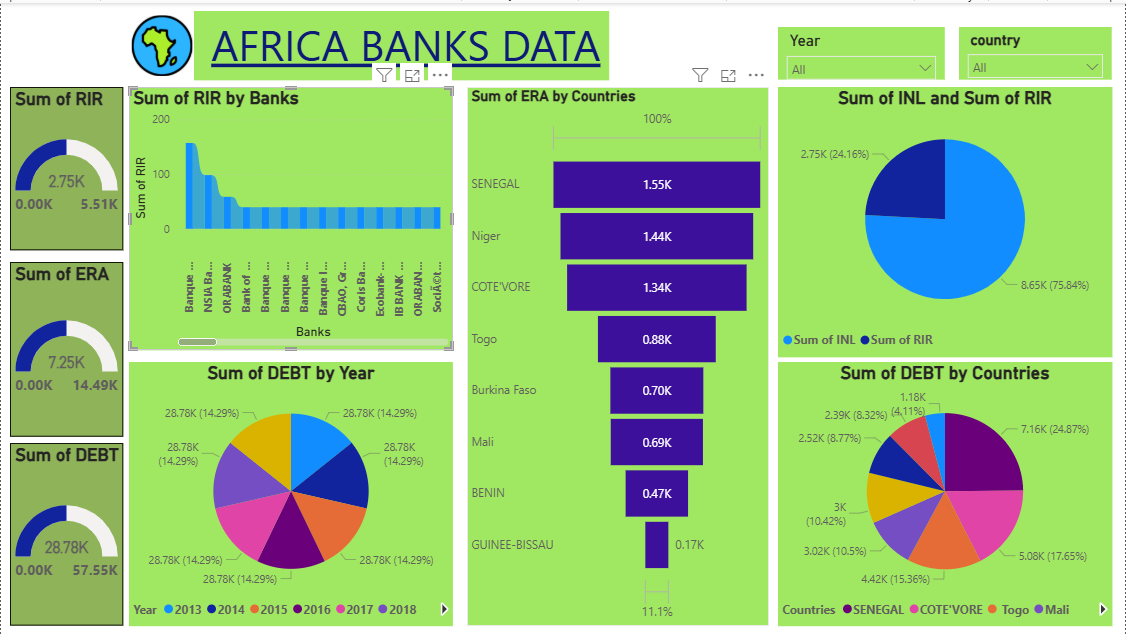

The dashboard page shown, as its layout file describes it:
{"tool":"powerbi","page":{"name":"Page 2","canvas":[1280,720],"ordinal":0},"visuals":[{"type":"textbox","box":[219.9,9.1,472.8,78.6],"z":0},{"type":"image","box":[139,9.1,88.9,78.6],"z":1000},{"type":"ribbonChart","fields":{"Category":["BANKTABLE.Banks"],"Y":["Sum(BANKTABLE.RIR)"]},"box":[145.8,95.7,369.1,299.6],"z":2000},{"type":"pieChart","fields":{"Category":["BANKTABLE.Year"],"Y":["Sum(BANKS.DEBT)"]},"box":[145.8,409,369.1,300.8],"z":3000},{"type":"pieChart","fields":{"Y":["Sum(BANKS.DEBT)"],"Category":["BANKS.Countries"]},"box":[885.2,409,380.5,300.8],"z":5000},{"type":"gauge","fields":{"Y":["Sum(BANKS.DEBT)"]},"box":[10.3,501.3,128.7,208.5],"z":6000},{"type":"gauge","fields":{"Y":["Sum(BANKS.ERA)"]},"box":[10.3,295.1,128.7,199.4],"z":7000},{"type":"gauge","fields":{"Y":["Sum(BANKS.RIR)"]},"box":[10.3,95.7,128.7,185.7],"z":8000},{"type":"funnel","fields":{"Category":["BANKS.Countries"],"Y":["Sum(BANKS.ERA)"]},"box":[530.9,95.7,344.1,614.1],"z":9000},{"type":"pieChart","fields":{"Y":["Sum(BANKS.INL)","Sum(BANKS.RIR)"]},"box":[885.2,95.7,380.5,307.6],"z":10000},{"type":"slicer","fields":{"Values":["BANKS.Countries","BANKS.Year"]},"box":[1091.4,27.3,174.3,60.4],"z":11000},{"type":"slicer","fields":{"Values":["BANKS.Year"]},"box":[885.2,27.3,190.3,60.4],"z":11001}]}

Visuals, with their boxes in screenshot pixels (x1, y1, x2, y2), scaled from the page's 1280x720 canvas onto the 1126x635 screenshot:
textbox: <bbox>193, 8, 609, 77</bbox>
image: <bbox>122, 8, 200, 77</bbox>
ribbonChart - BANKTABLE.Banks x Sum(BANKTABLE.RIR): <bbox>128, 84, 453, 349</bbox>
pieChart - BANKTABLE.Year x Sum(BANKS.DEBT): <bbox>128, 361, 453, 626</bbox>
pieChart - Sum(BANKS.DEBT) x BANKS.Countries: <bbox>779, 361, 1113, 626</bbox>
gauge - Sum(BANKS.DEBT): <bbox>9, 442, 122, 626</bbox>
gauge - Sum(BANKS.ERA): <bbox>9, 260, 122, 436</bbox>
gauge - Sum(BANKS.RIR): <bbox>9, 84, 122, 248</bbox>
funnel - BANKS.Countries x Sum(BANKS.ERA): <bbox>467, 84, 770, 626</bbox>
pieChart - Sum(BANKS.INL) x Sum(BANKS.RIR): <bbox>779, 84, 1113, 356</bbox>
slicer - BANKS.Countries x BANKS.Year: <bbox>960, 24, 1113, 77</bbox>
slicer - BANKS.Year: <bbox>779, 24, 946, 77</bbox>
